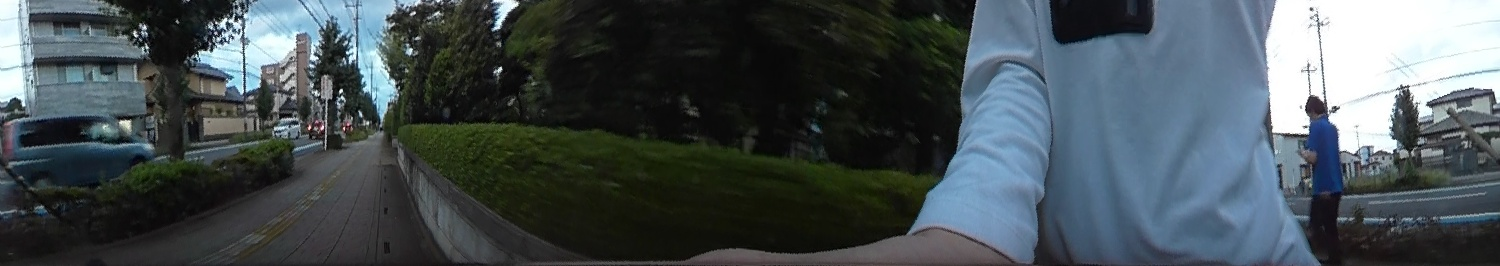person: (1297, 86, 1351, 261)
